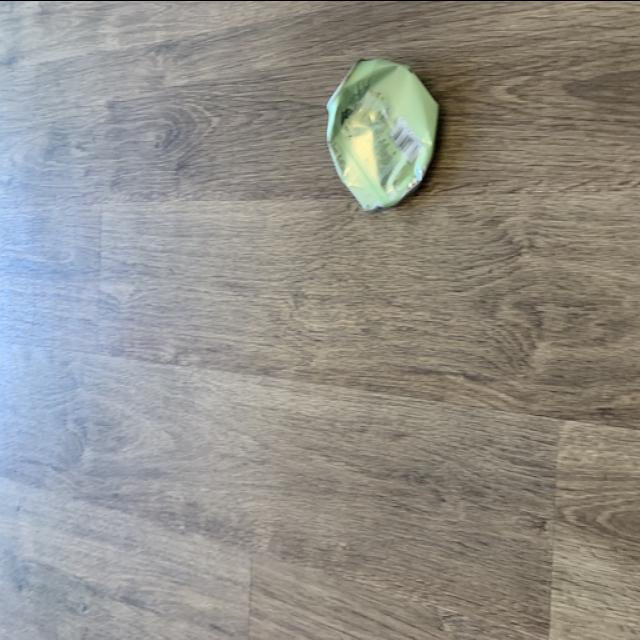Aluminum Can: (302, 45, 454, 235)
